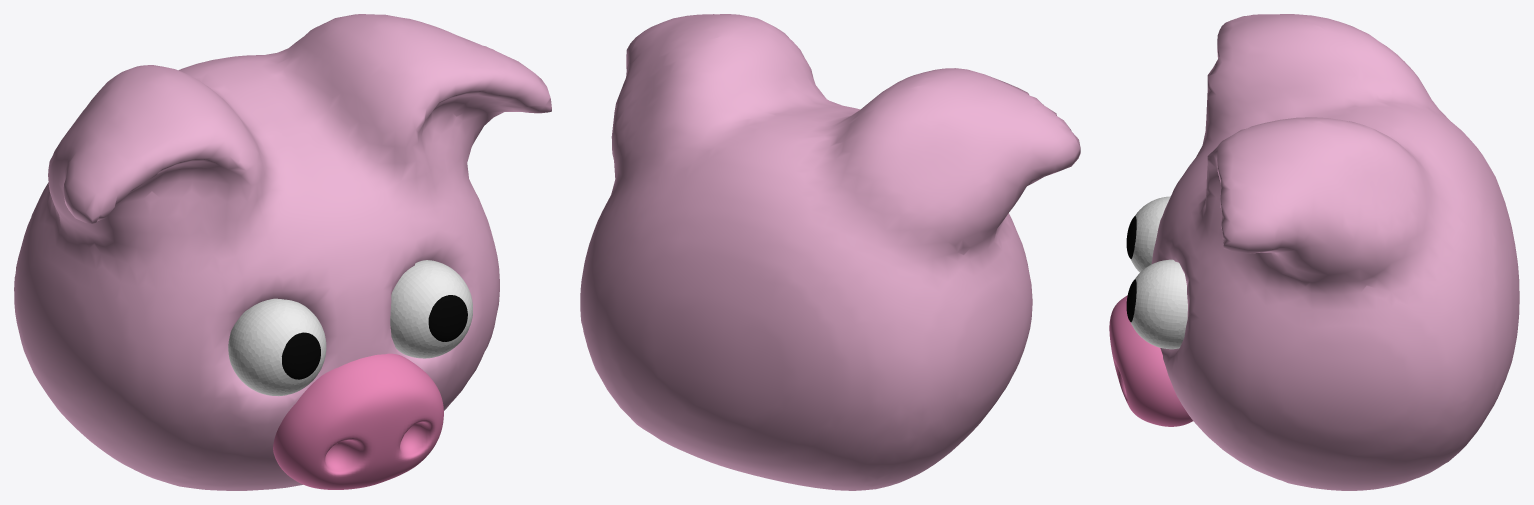
Rendered from pig.fbx.
3 renders of one model, left to right at view 1: azimuth 30°, elevation 25°; view 2: azimuth 150°, elevation 25°; view 3: azimuth 270°, elevation 25°, orthographic. The views are drawn at different scales.
Visible parts, largest first — view 1: Cube, Cube.008, Sphere.002, Sphere.001; view 2: Cube; view 3: Cube, Cube.008, Sphere.001, Sphere.002.
Boxes of the visible parts, <box> form: Cube: <box>14,14,551,490</box>; Cube.008: <box>273,353,443,489</box>; Sphere.002: <box>228,298,326,396</box>; Sphere.001: <box>390,260,472,358</box>; Cube: <box>580,14,1080,490</box>; Cube: <box>1151,14,1519,490</box>; Cube.008: <box>1109,295,1192,426</box>; Sphere.001: <box>1126,259,1187,349</box>; Sphere.002: <box>1126,196,1170,272</box>.
Bounding box in the file's own units: 398 × 342 × 329.
